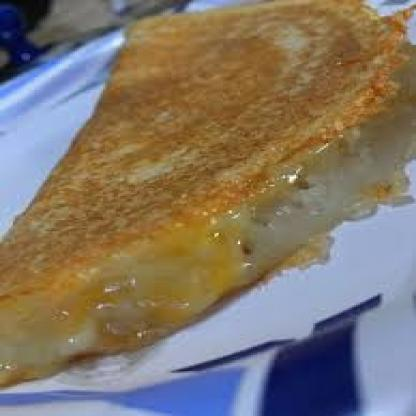dosa: (0, 0, 416, 389)
